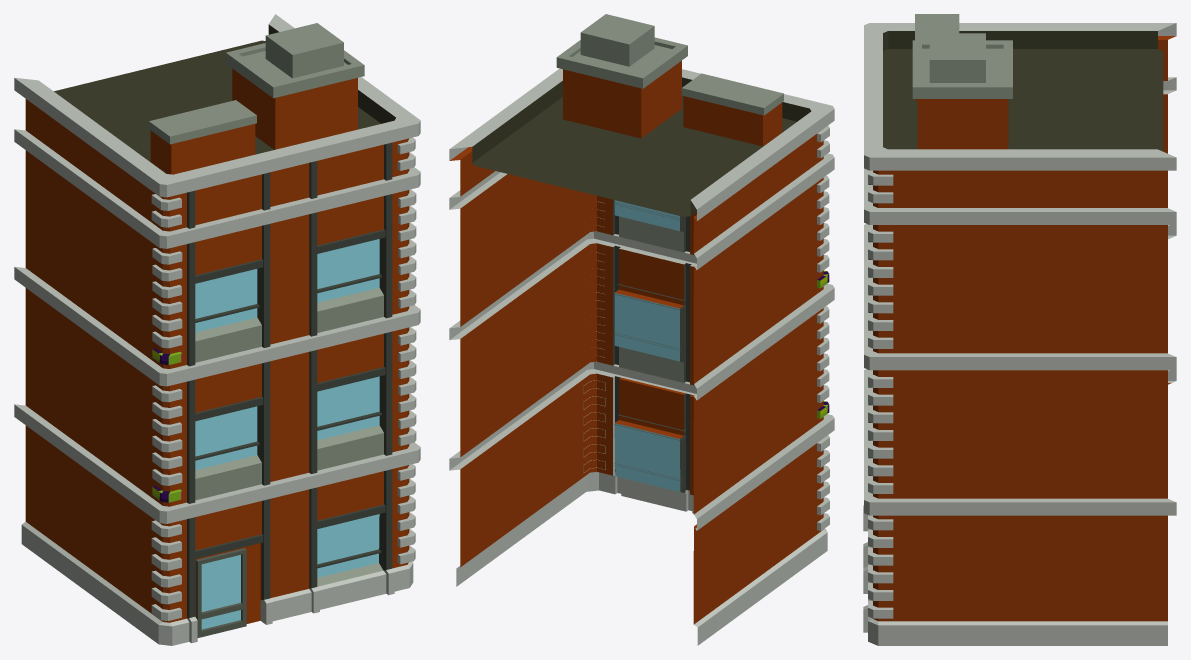
The model's file is House4.2.fbx.
The picture shows the model from 3 angles, left to right: view 1: azimuth 30°, elevation 25°; view 2: azimuth 150°, elevation 25°; view 3: azimuth 270°, elevation 25°; orthographic projection. The views are drawn at different scales.
Visible parts, largest first — view 1: House2.002; view 2: House2.002; view 3: House2.002.
Boxes of the visible parts, x1=… form: House2.002: x1=14, y1=14, x2=420, y2=645; House2.002: x1=449, y1=14, x2=834, y2=645; House2.002: x1=863, y1=14, x2=1176, y2=645.
Bounding box in the file's own units: 795 × 1550 × 782.
1 material, 1 textured.
